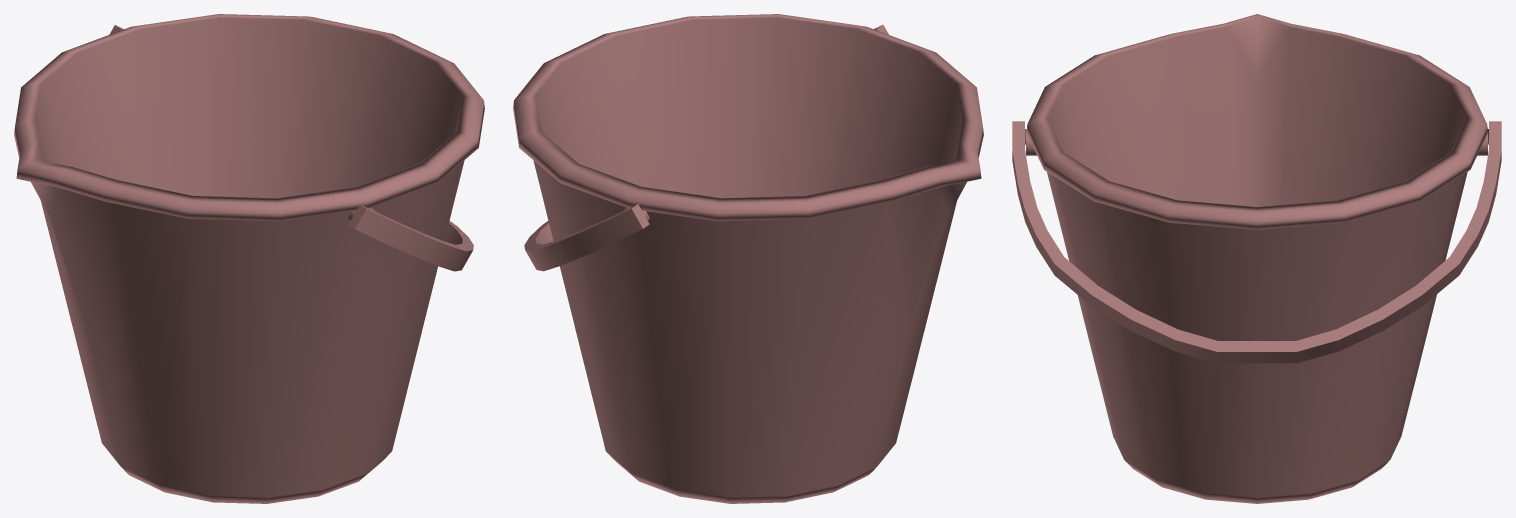
File: Balde.fbx
The picture shows the model from 3 angles, left to right: view 1: azimuth 30°, elevation 25°; view 2: azimuth 150°, elevation 25°; view 3: azimuth 270°, elevation 25°; orthographic projection. The views are drawn at different scales.
Visible parts, largest first — view 1: Balde; view 2: Balde; view 3: Balde.
Boxes of the visible parts, box(x1,y1,x2,y2) form: Balde: box(14, 14, 484, 503); Balde: box(513, 14, 983, 503); Balde: box(1012, 14, 1501, 503).
Size of the model in its own units: 0.5532 by 0.4072 by 0.5498.
